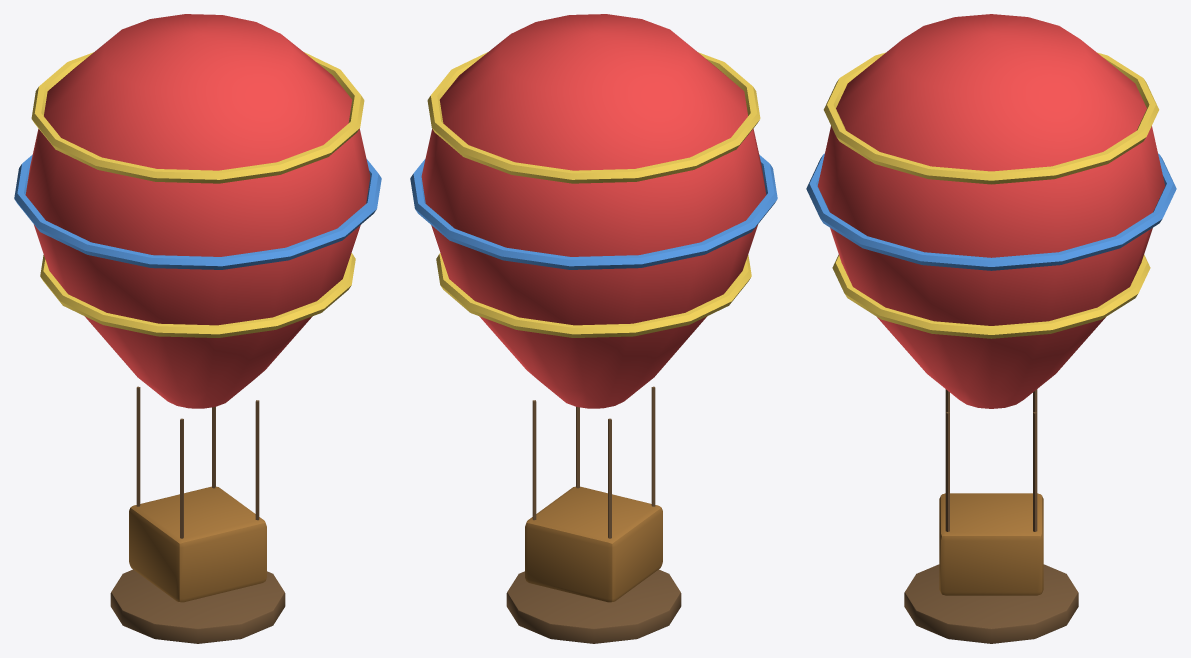
Rendered from HeroSky.fbx.
The picture shows the model from 3 angles, left to right: view 1: azimuth 30°, elevation 25°; view 2: azimuth 150°, elevation 25°; view 3: azimuth 270°, elevation 25°; orthographic projection.
Parts seen in each view (by area): view 1: HeroSky; view 2: HeroSky; view 3: HeroSky.
Part boxes in pixels (x1,y1,x2,y2): HeroSky: [14, 14, 381, 643]; HeroSky: [410, 14, 777, 643]; HeroSky: [806, 14, 1176, 643].
Bounding box in the file's own units: 850 × 1450 × 850.
